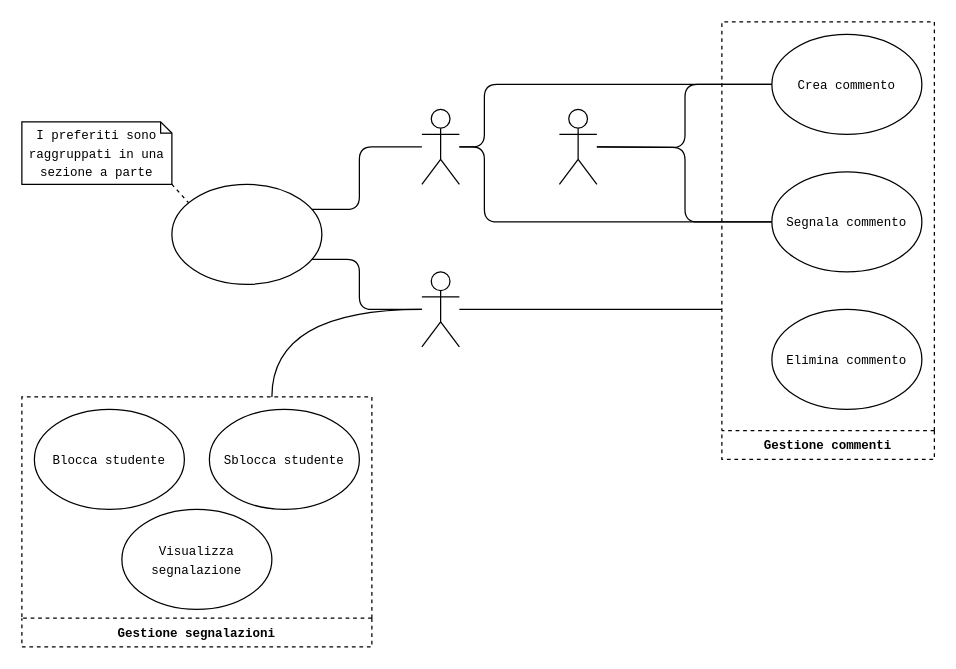
Some shapes in this 956 by 669 pixel diagram are drawn without their labels. Here are the shapes that lost their labels. From the top down, the centre of each, then its label:
point (440, 146): Studente
point (577, 146): Event Manager
point (246, 233): Salva evento come preferito
point (440, 309): Moderatore
